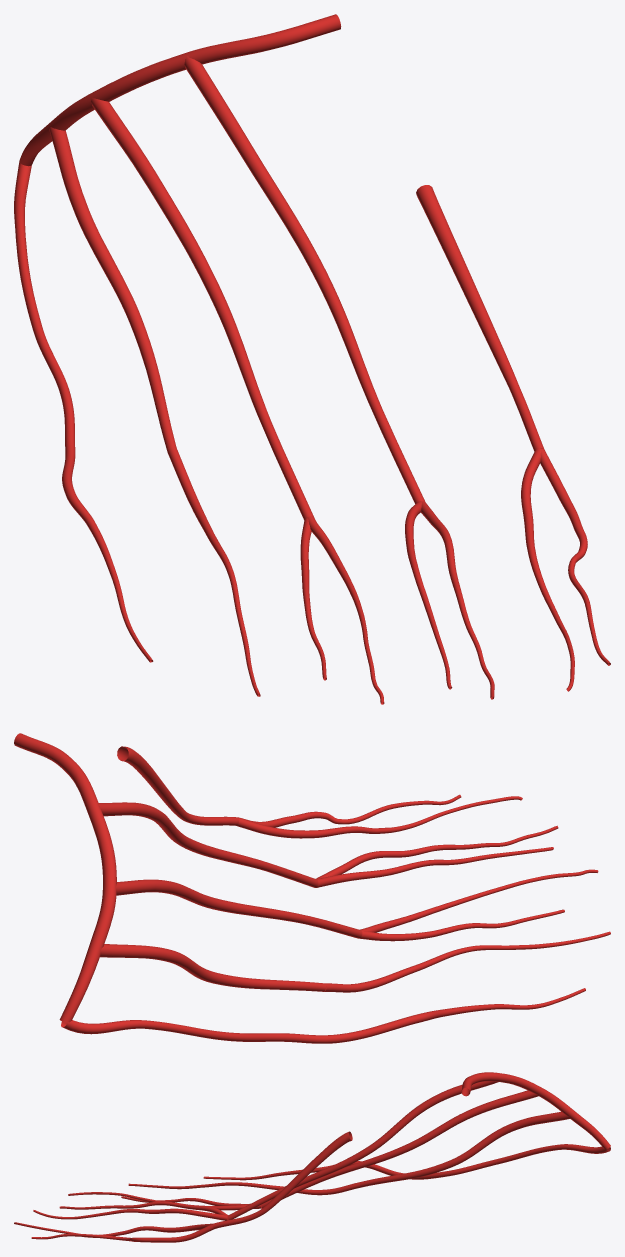
Rendered from circulatorio-arcuate-artery-r.glb.
The picture shows the model from 3 angles, top to bottom: view 1: azimuth 30°, elevation 25°; view 2: azimuth 150°, elevation 25°; view 3: azimuth 270°, elevation 25°; orthographic projection. The views are drawn at different scales.
Visible parts, largest first — view 1: Dorsal metatarsal arteries.r, Dorsal digital arteries of foot.r, Arcuate artery.r; view 2: Dorsal digital arteries of foot.r, Dorsal metatarsal arteries.r, Arcuate artery.r; view 3: Dorsal metatarsal arteries.r, Dorsal digital arteries of foot.r, Arcuate artery.r.
Part boxes in pixels (x1,y1,x2,y2): Dorsal metatarsal arteries.r: (49,56,544,519); Dorsal digital arteries of foot.r: (14,161,610,704); Arcuate artery.r: (19,14,341,166); Dorsal digital arteries of foot.r: (61,794,610,1043); Dorsal metatarsal arteries.r: (98,746,362,991); Arcuate artery.r: (14,733,116,1023); Dorsal metatarsal arteries.r: (213,1081,570,1228); Dorsal digital arteries of foot.r: (14,1144,610,1242); Arcuate artery.r: (461,1072,610,1149).
Bounding box in the file's own units: 0.0666 × 0.0553 × 0.1464.
